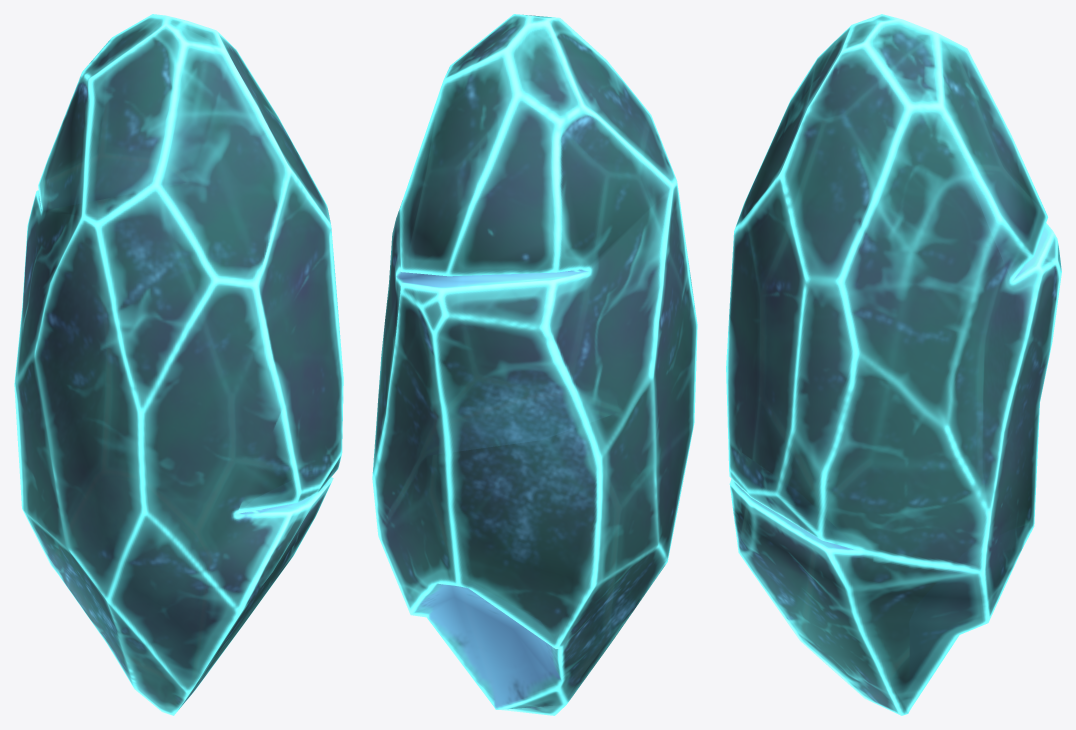
Rendered from magic_crystal_game_ready.glb.
3 renders of one model, left to right at view 1: azimuth 30°, elevation 25°; view 2: azimuth 150°, elevation 25°; view 3: azimuth 270°, elevation 25°, orthographic.
Visible parts, largest first — view 1: Crystal; view 2: Crystal; view 3: Crystal.
Boxes of the visible parts, left/top/right/bottom form: Crystal: left=14, top=14, right=343, bottom=715; Crystal: left=372, top=14, right=697, bottom=715; Crystal: left=726, top=14, right=1061, bottom=715.
Bounding box in the file's own units: 1.76 × 4.32 × 1.92.
1 material, 1 textured.
